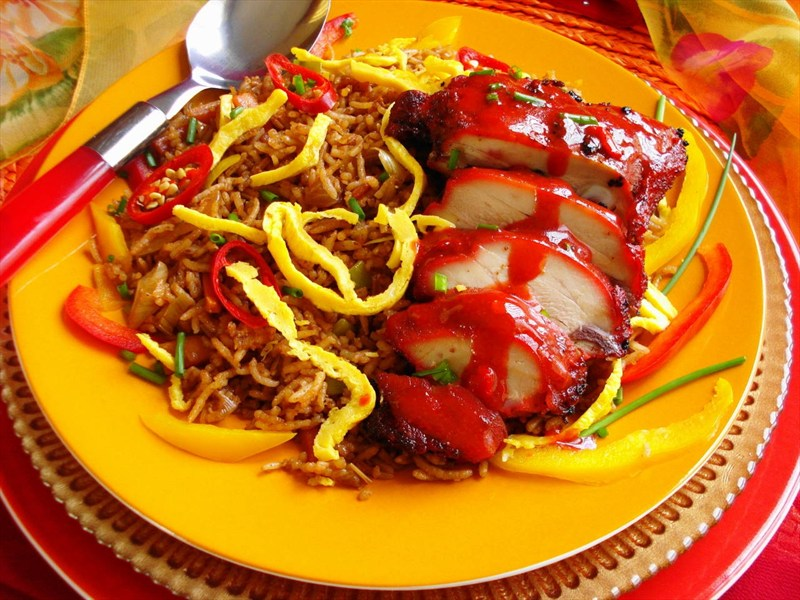Nasi Goreng: (62, 64, 683, 461)
